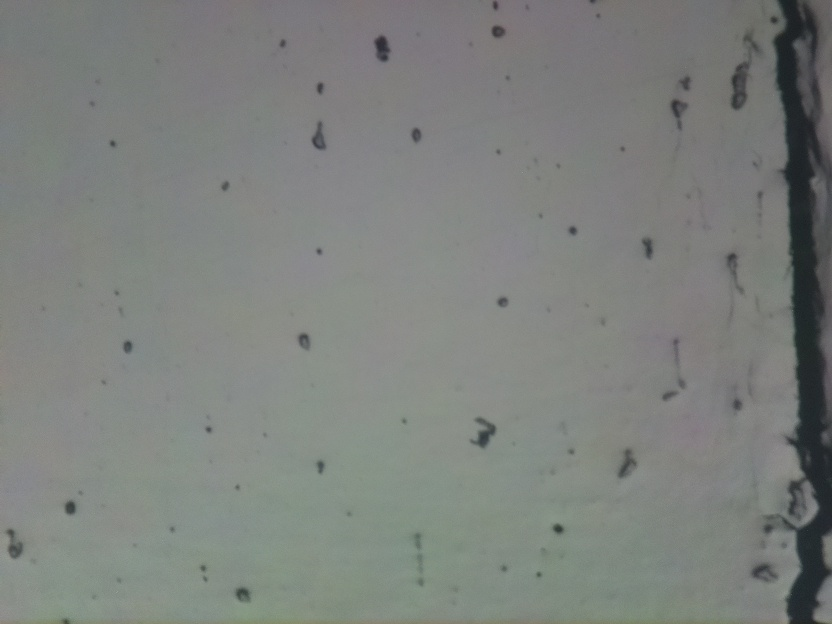crack: (779, 0, 832, 624)
